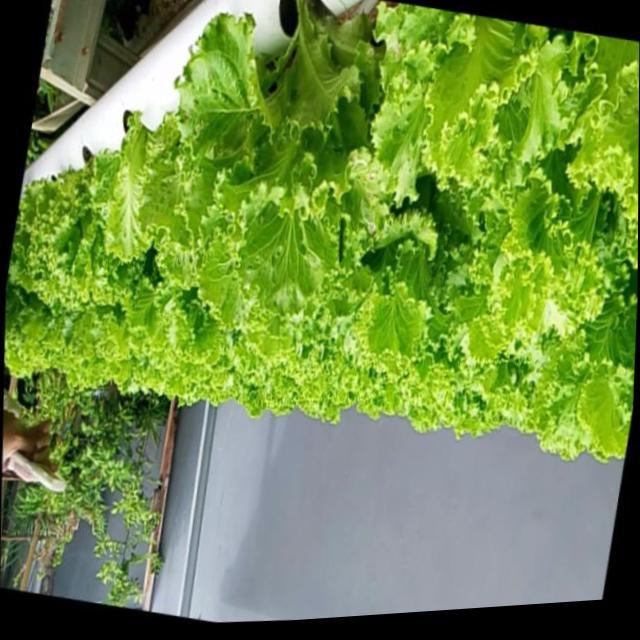Mature: (5, 0, 639, 464), (201, 10, 399, 307), (15, 136, 169, 344)
